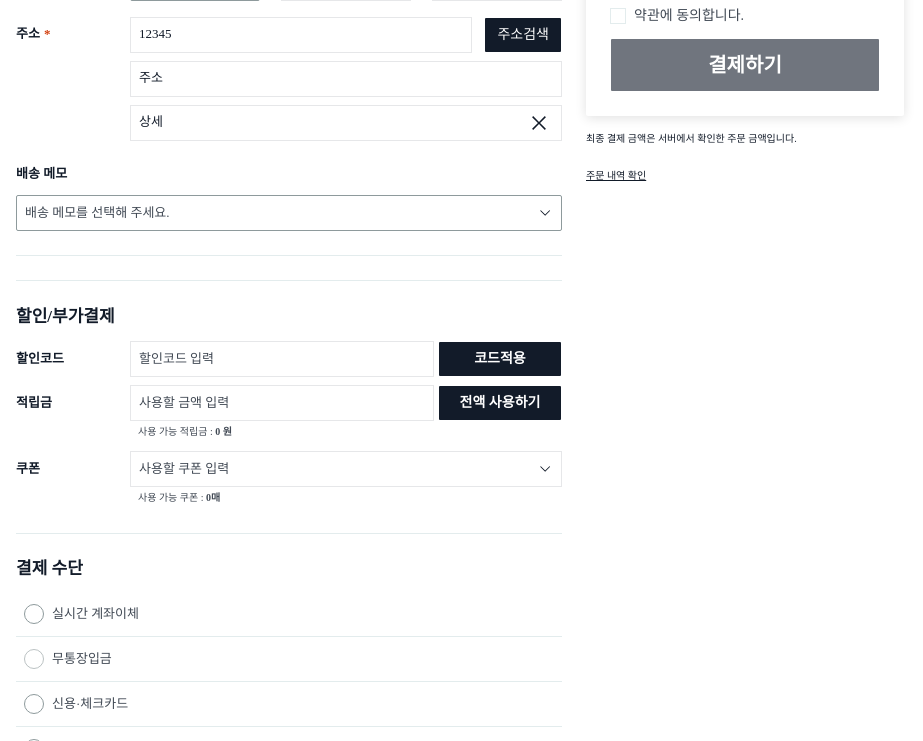
Scenario: keeps unavailable benefits on checkout without applying a fake discount
(page scrolled)
Type "TEST" into the field labelled "할인코드". click: {"x": 282, "y": 359}
box: [139, 350, 425, 368]
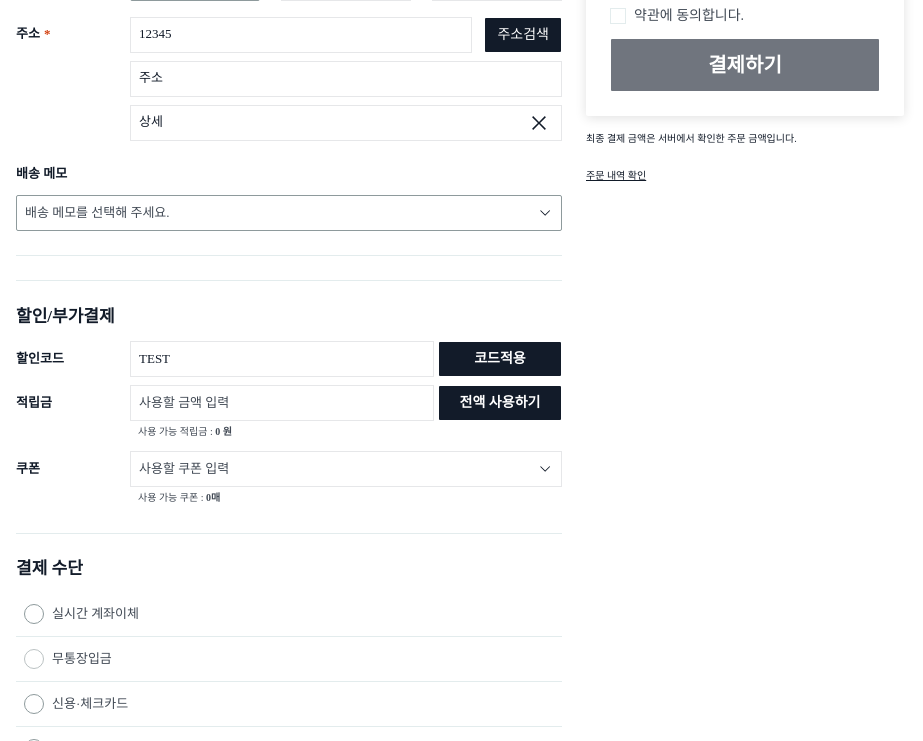
Click the button "코드적용". click: {"x": 500, "y": 359}
box: [438, 341, 562, 377]
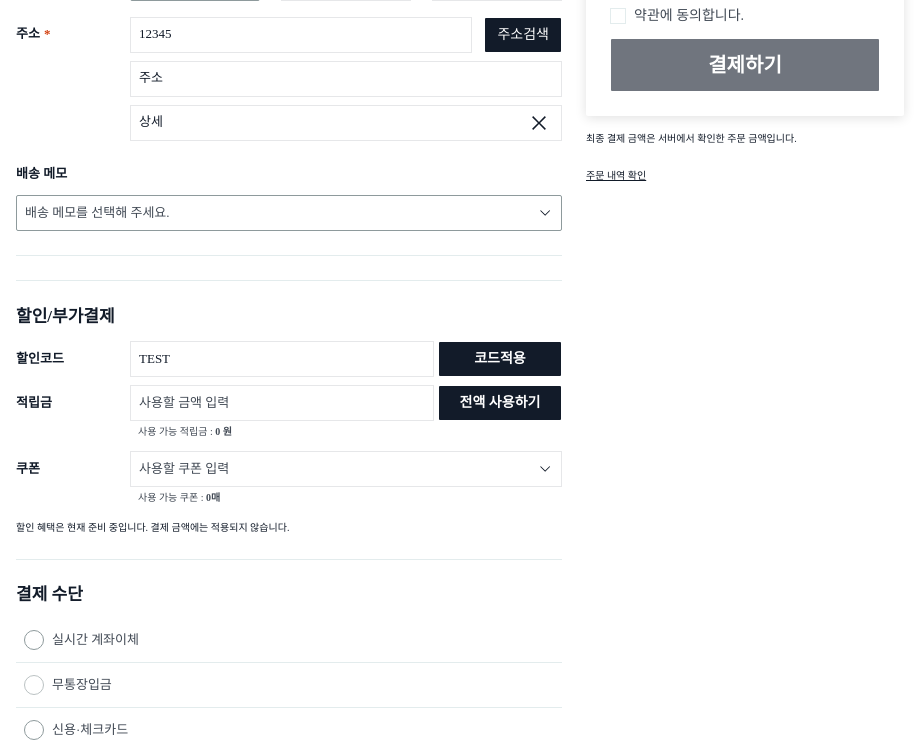
Expected: the dropdown labelled "쿠폰" is shown, [130, 451, 562, 487]
Now the message shows "할인 혜택은 현재 준비 중입니다.", box [16, 522, 289, 533]
